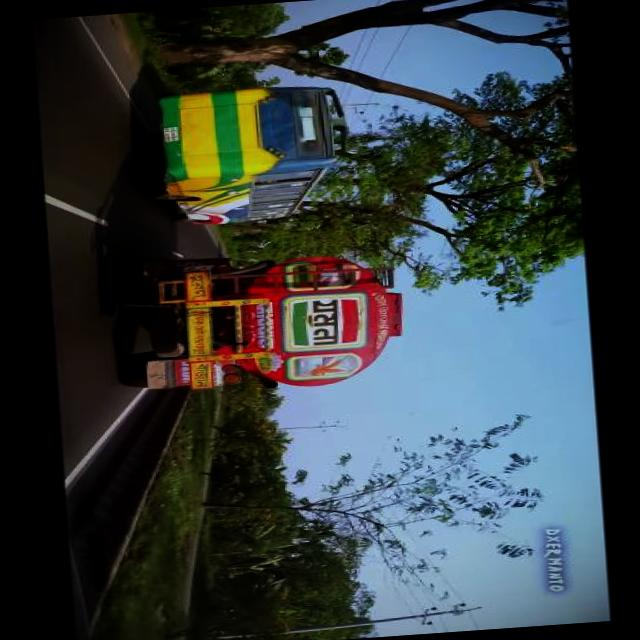bus: (140, 77, 358, 232)
truck: (104, 239, 413, 402)
